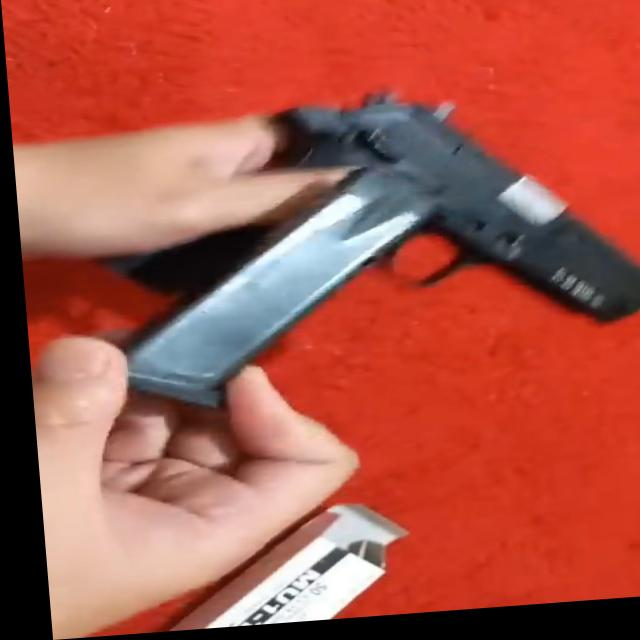handgun: (77, 74, 640, 422)
